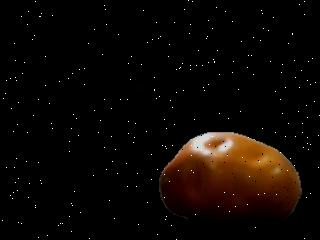Potato: (160, 129, 304, 230)
